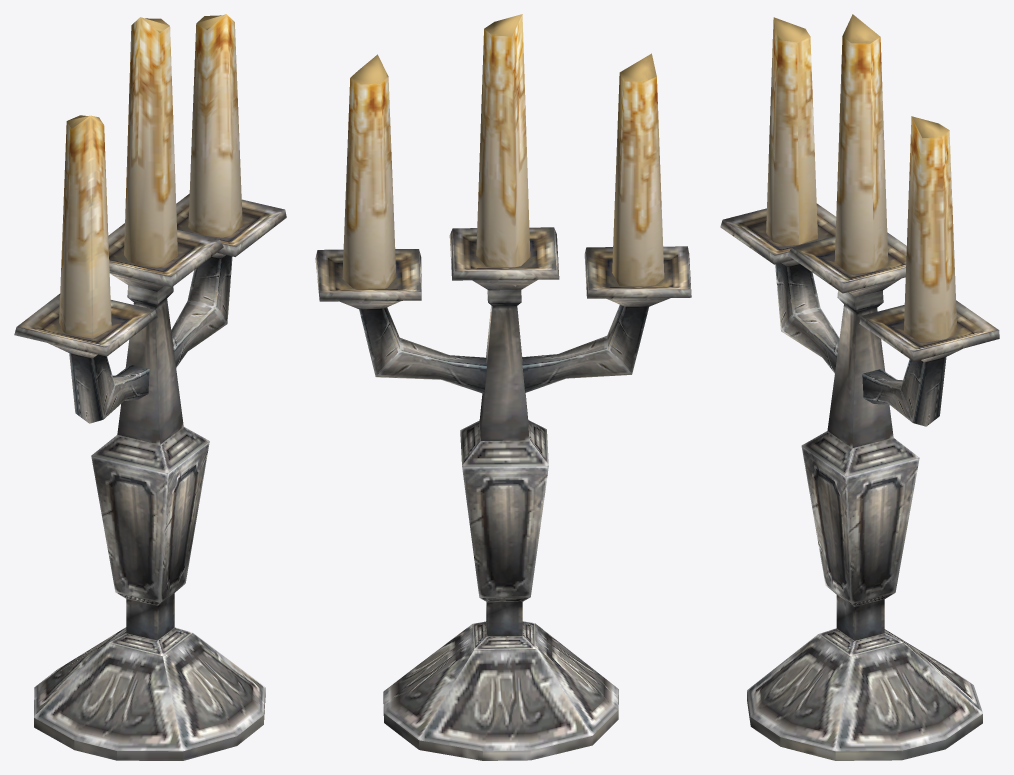
Rendered from candelabras_comedor1.obj.
3 views of the same model, side by side, from view 1: azimuth 30°, elevation 25°; view 2: azimuth 150°, elevation 25°; view 3: azimuth 270°, elevation 25° (orthographic).
Visible parts, largest first — view 1: candelabras_comedor1:Geoset0candelabras_comedor1; view 2: candelabras_comedor1:Geoset0candelabras_comedor1; view 3: candelabras_comedor1:Geoset0candelabras_comedor1.
Boxes of the visible parts, x1=… form: candelabras_comedor1:Geoset0candelabras_comedor1: x1=14, y1=14, x2=286, y2=760; candelabras_comedor1:Geoset0candelabras_comedor1: x1=315, y1=14, x2=691, y2=760; candelabras_comedor1:Geoset0candelabras_comedor1: x1=720, y1=14, x2=999, y2=760.
Size of the model in its own units: 0.3367 by 0.6934 by 0.2541.
Materials: 1 (1 with a texture image).
